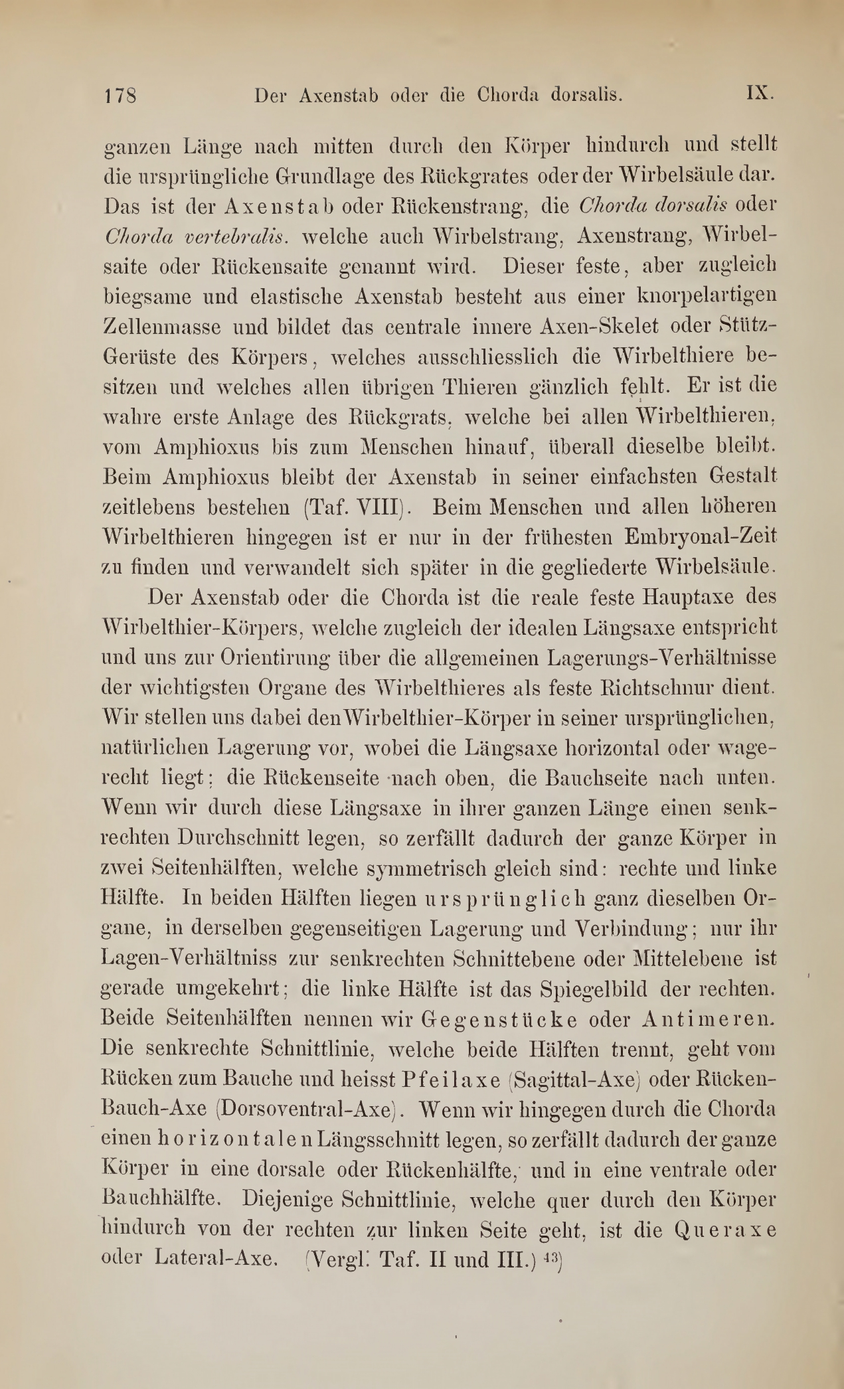MainZone: (88, 136, 785, 1283)
NumberingZone chapter: (739, 76, 780, 106)
NumberingZone_page: (91, 78, 155, 117)
RunningTitleZone: (242, 78, 639, 112)
